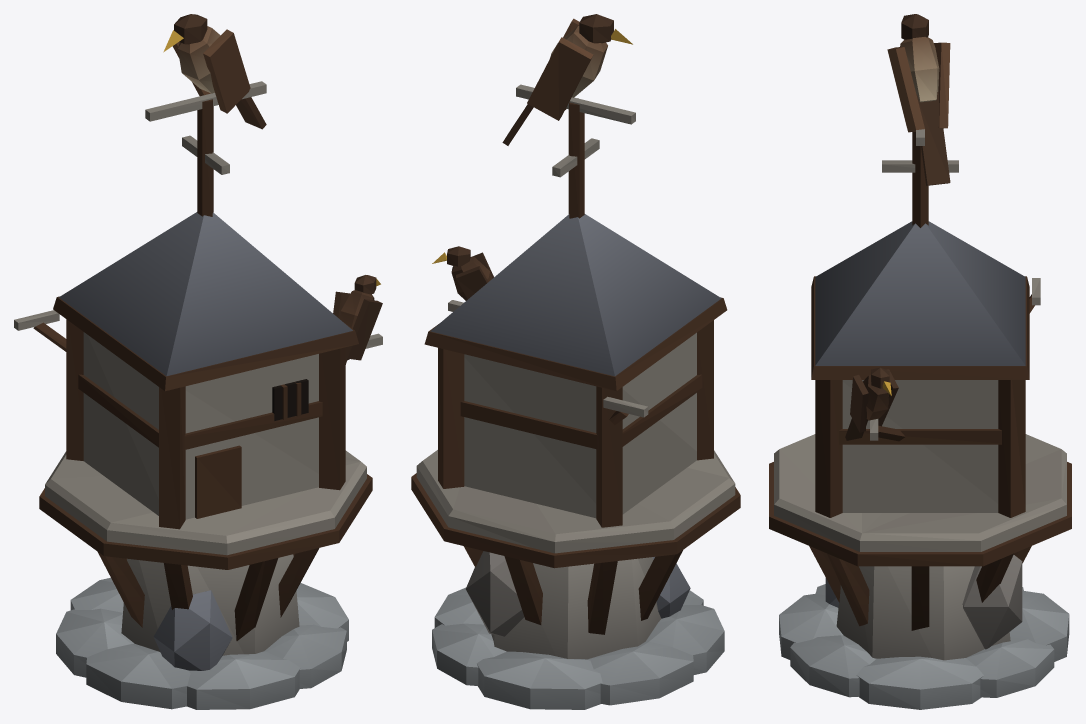
Rendered from hawk_roost.glb.
The picture shows the model from 3 angles, left to right: view 1: azimuth 30°, elevation 25°; view 2: azimuth 150°, elevation 25°; view 3: azimuth 270°, elevation 25°; orthographic projection. The views are drawn at different scales.
Visible parts, largest first — view 1: hawk_roost; view 2: hawk_roost; view 3: hawk_roost.
Part boxes in pixels (x1,y1,x2,y2): hawk_roost: [14, 14, 382, 709]; hawk_roost: [411, 14, 740, 709]; hawk_roost: [769, 14, 1071, 709].
Bounding box in the file's own units: 0.8594 × 1.82 × 0.7834.
